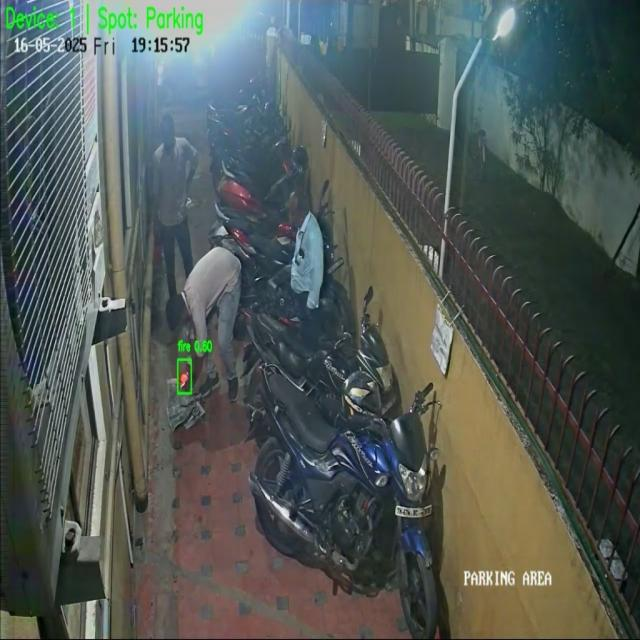Fire: (167, 350, 203, 408)
